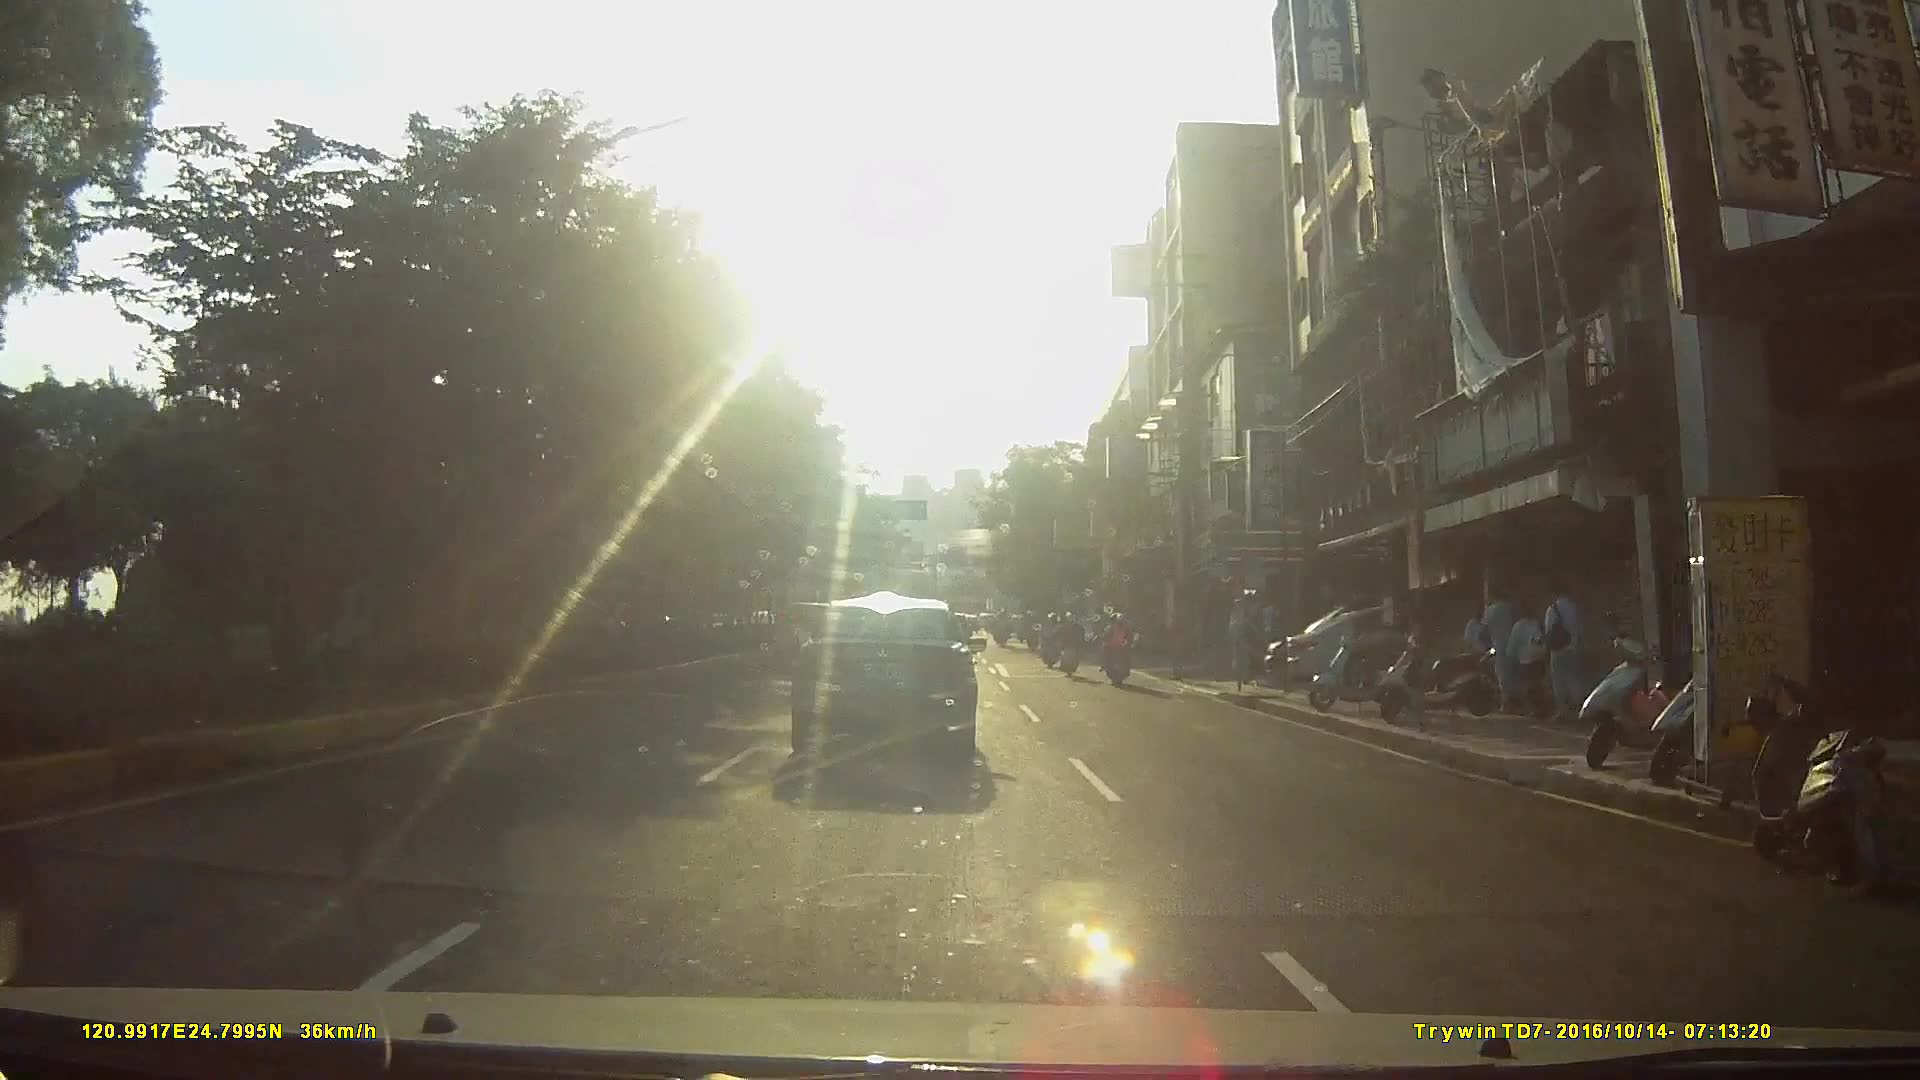pedestrian: (1538, 577, 1586, 724), (1503, 599, 1557, 715), (1479, 579, 1522, 712)
rider: (1103, 614, 1138, 693), (1057, 612, 1085, 679), (1041, 613, 1062, 671)
vehicle: (787, 598, 1001, 786)
